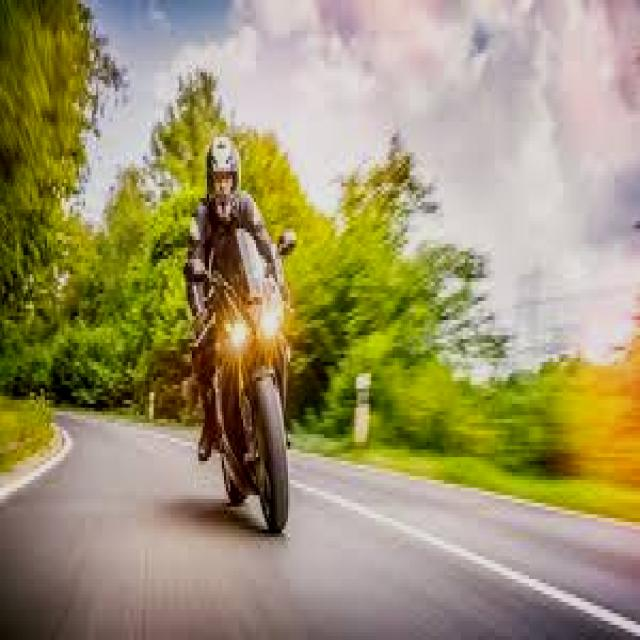MOTORCYCLE: (189, 253, 304, 536)
